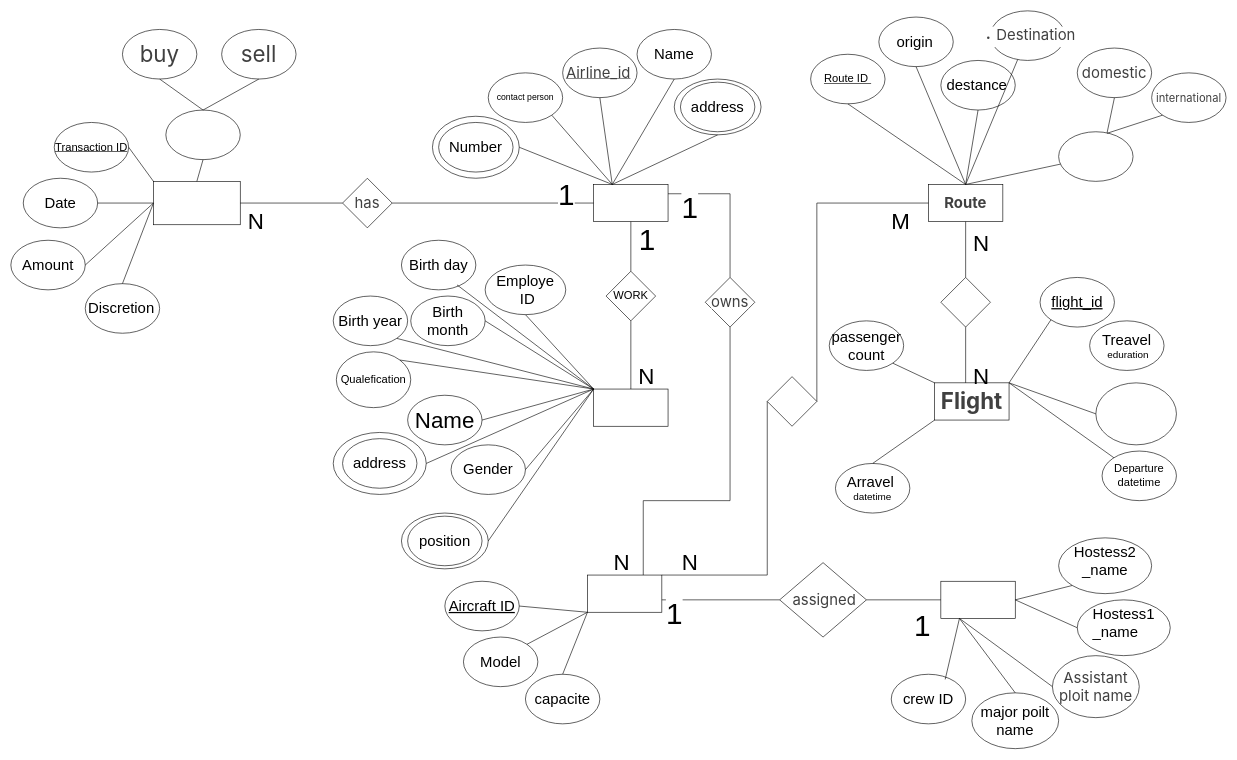
The diagram is 1237 pixels wide and 760 high, and some of its shapes have lost their labels. Here are the shapes that lost their labels. From the top down, the centre of each, then its label:
At point (202, 134): "Type".
At point (1095, 156): "Classification".
At point (196, 203): "Transaction".
At point (630, 203): "Airline".
At point (965, 302): "THROUGHT".
At point (630, 407): "Employee".
At point (792, 401): "have".
At point (1135, 413): "perse per passenger".
At point (624, 593): "Aircraft".
At point (977, 599): "Crew".
